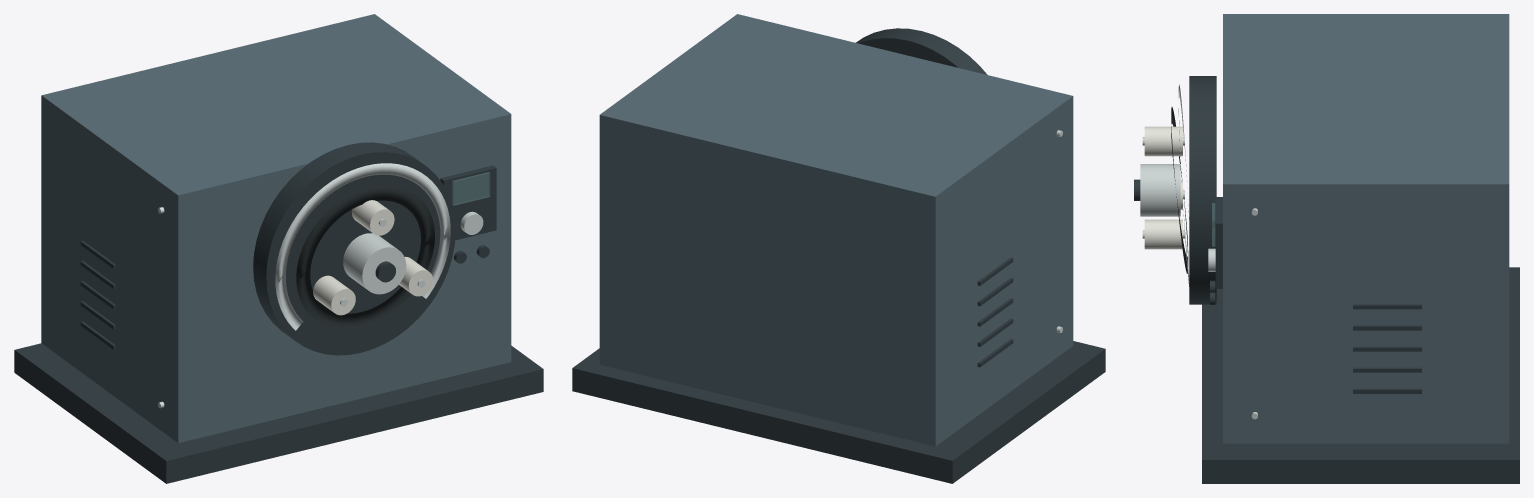
The model's file is perfusion_pump.glb.
The picture shows the model from 3 angles, left to right: view 1: azimuth 30°, elevation 25°; view 2: azimuth 150°, elevation 25°; view 3: azimuth 270°, elevation 25°; orthographic projection. The views are drawn at different scales.
Visible parts, largest first — view 1: PumpBody, LowerFoot, PumpHeadBack, TubeRace, HeadRetainingRim, ControlInset, DriveHub, Roller_2, Roller_1, StatusDisplay, Roller_3; view 2: PumpBody, LowerFoot, PumpHeadBack; view 3: PumpBody, LowerFoot, PumpHeadBack, DriveHub, CoolingSlot (×5), Roller_1, Roller_3, ControlInset, TubeRace.
Part boxes in pixels (x1,y1,x2,y2): PumpBody: [41, 14, 511, 442]; LowerFoot: [14, 343, 543, 483]; PumpHeadBack: [253, 142, 455, 355]; TubeRace: [296, 185, 434, 328]; HeadRetainingRim: [275, 163, 450, 330]; ControlInset: [440, 165, 496, 240]; DriveHub: [343, 233, 406, 294]; Roller_2: [313, 275, 355, 315]; Roller_1: [351, 200, 394, 235]; StatusDisplay: [452, 172, 490, 205]; Roller_3: [399, 256, 433, 296]; PumpBody: [599, 14, 1073, 446]; LowerFoot: [572, 341, 1105, 483]; PumpHeadBack: [856, 28, 987, 74]; PumpBody: [1223, 14, 1509, 443]; LowerFoot: [1202, 267, 1519, 483]; PumpHeadBack: [1189, 76, 1216, 304]; DriveHub: [1140, 164, 1180, 216]; CoolingSlot (×5): [1353, 304, 1421, 393]; Roller_1: [1144, 126, 1182, 156]; Roller_3: [1144, 219, 1182, 249]; ControlInset: [1215, 197, 1222, 288]; TubeRace: [1171, 107, 1188, 273].
Bounding box in the file's own units: 0.43 × 0.317 × 0.364.
